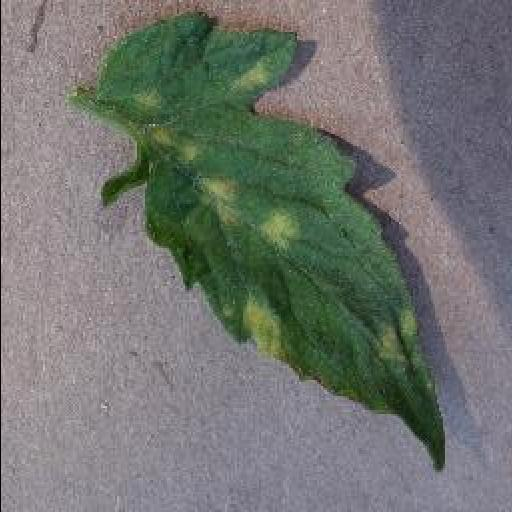disease_tomato: (95, 16, 445, 470)
